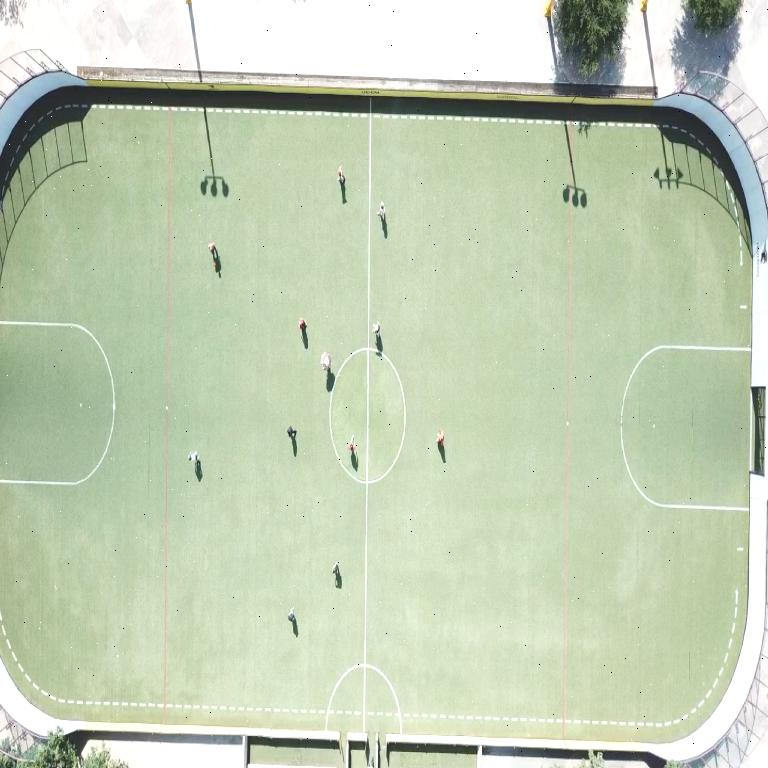AC: (620, 345, 750, 510), (0, 320, 115, 486)
B: (213, 262, 217, 268)
MC: (362, 342, 370, 730)
P: (208, 242, 218, 267), (337, 166, 346, 184), (377, 202, 385, 220), (321, 352, 329, 369), (288, 426, 296, 441), (348, 436, 355, 453), (437, 429, 444, 445), (372, 323, 380, 337), (189, 451, 199, 462), (288, 607, 295, 622), (299, 318, 307, 330), (332, 562, 339, 575)
